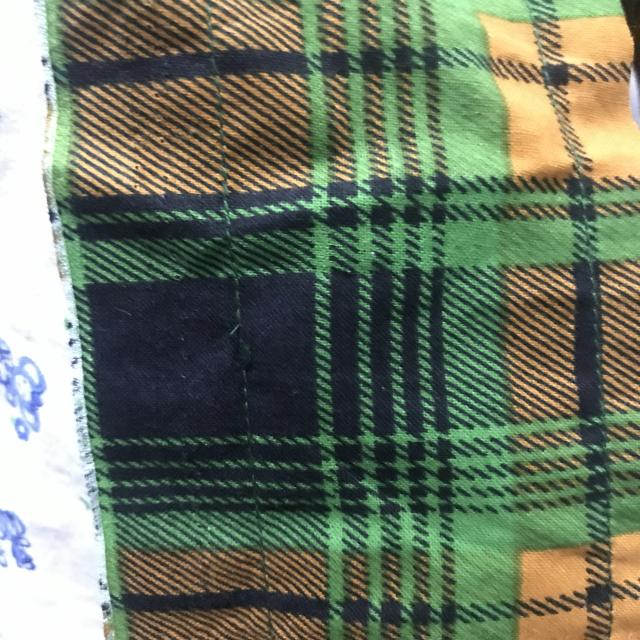broken: (218, 313, 268, 383)
good: (233, 392, 263, 432)
